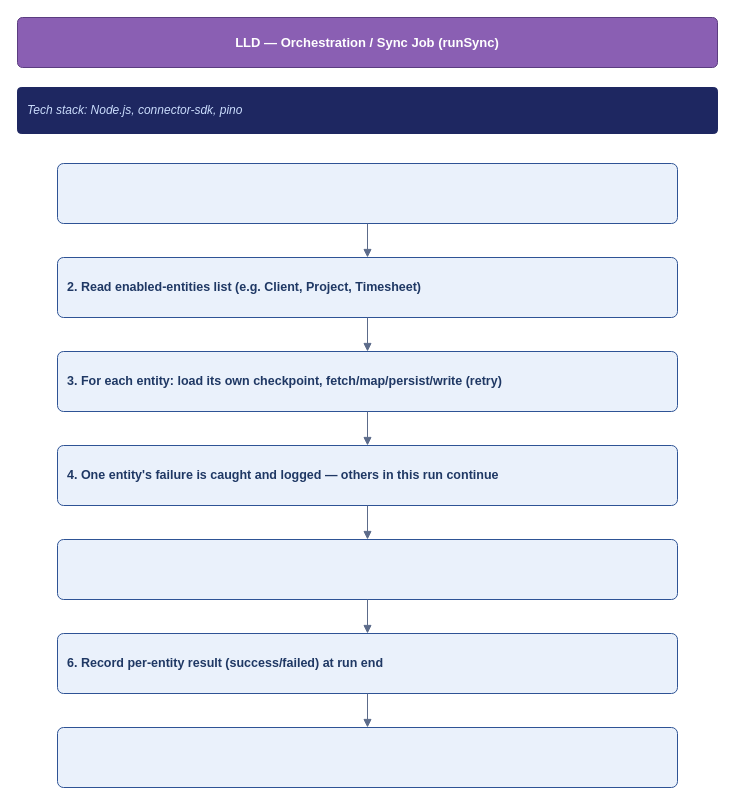
Some shapes in this 735 by 805 pixel diagram are drawn without their labels. The box of each missing label's shape, as (x1, y1, x2, y2) in pixels:
1. Container starts — fetches secrets via service token: (56, 162, 678, 224)
5. Checkpoint saved after every page, per entity: (56, 538, 678, 600)
7. Log run summary and exit: (56, 726, 678, 788)
